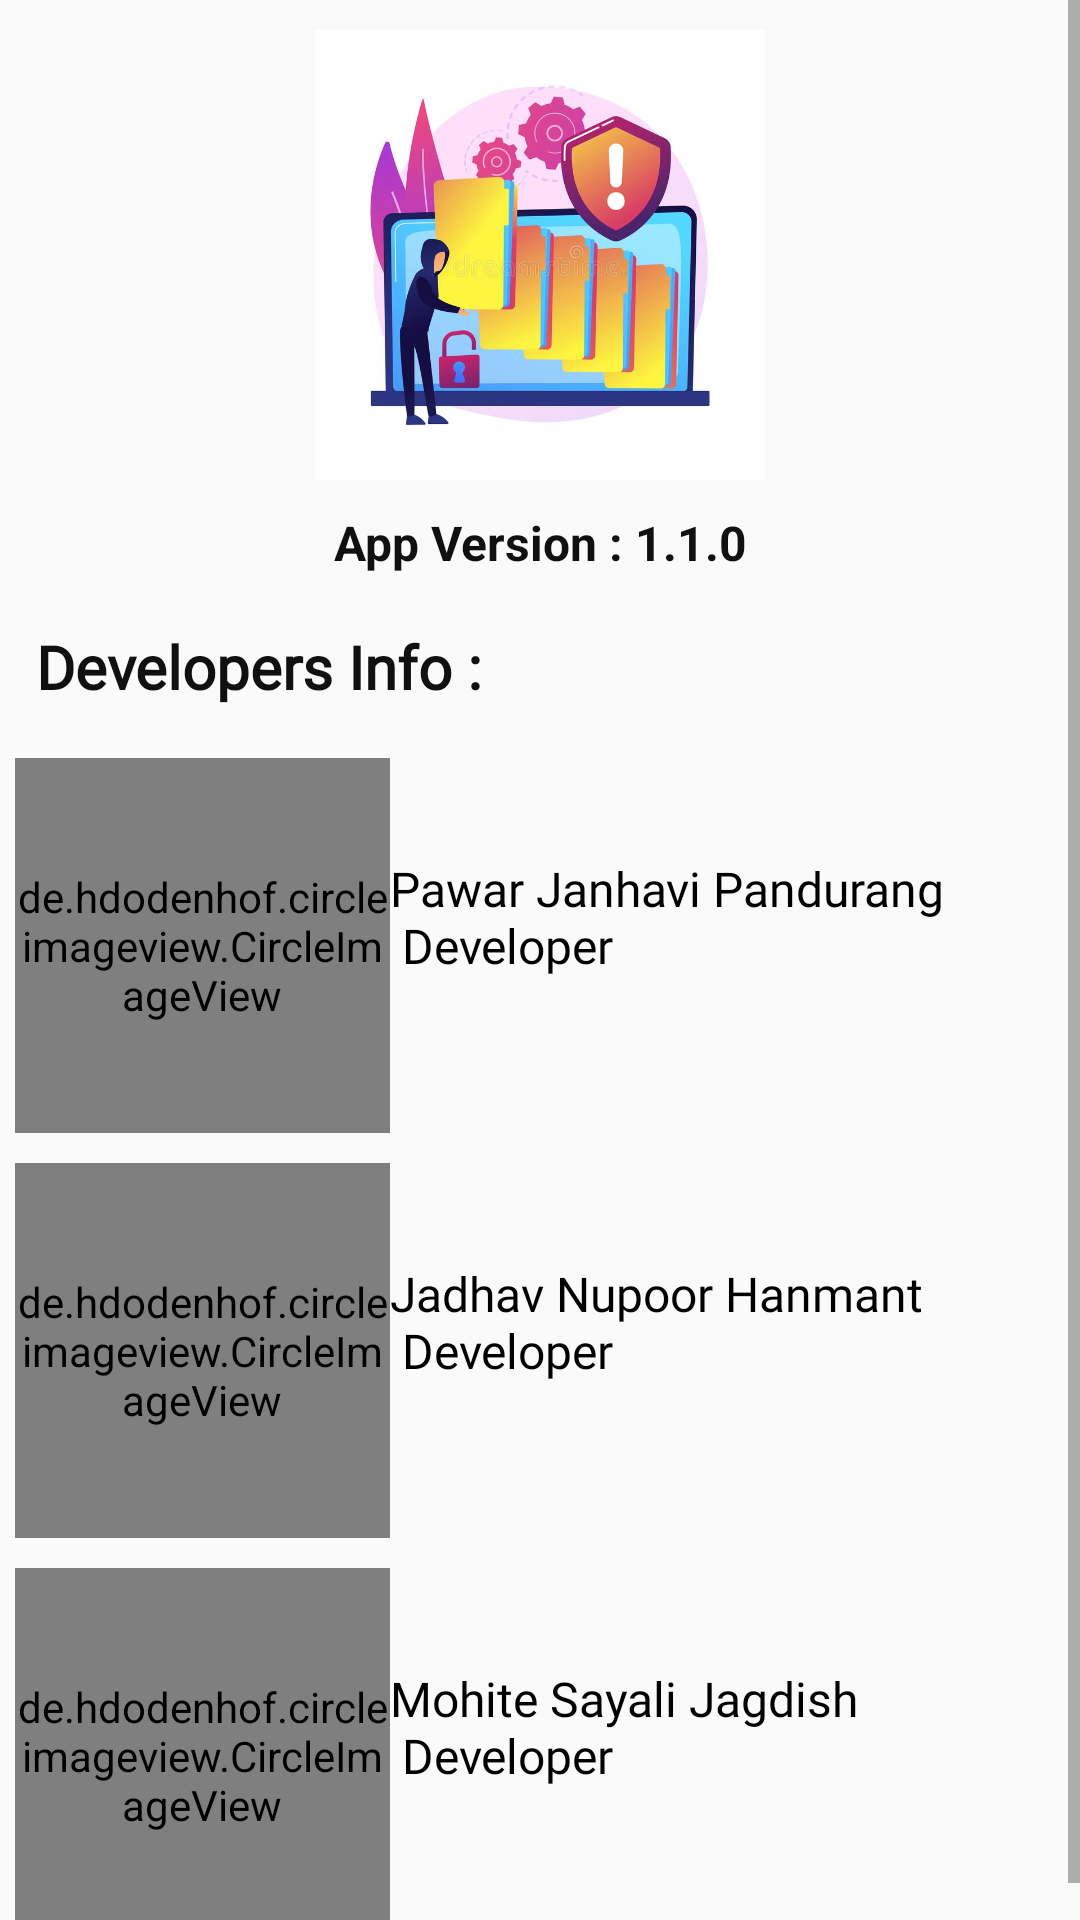

Where icons sit on this 1080x1920 app screen, as [x1, y1, x2, y2]:
dataleakage: [370, 86, 710, 425]
